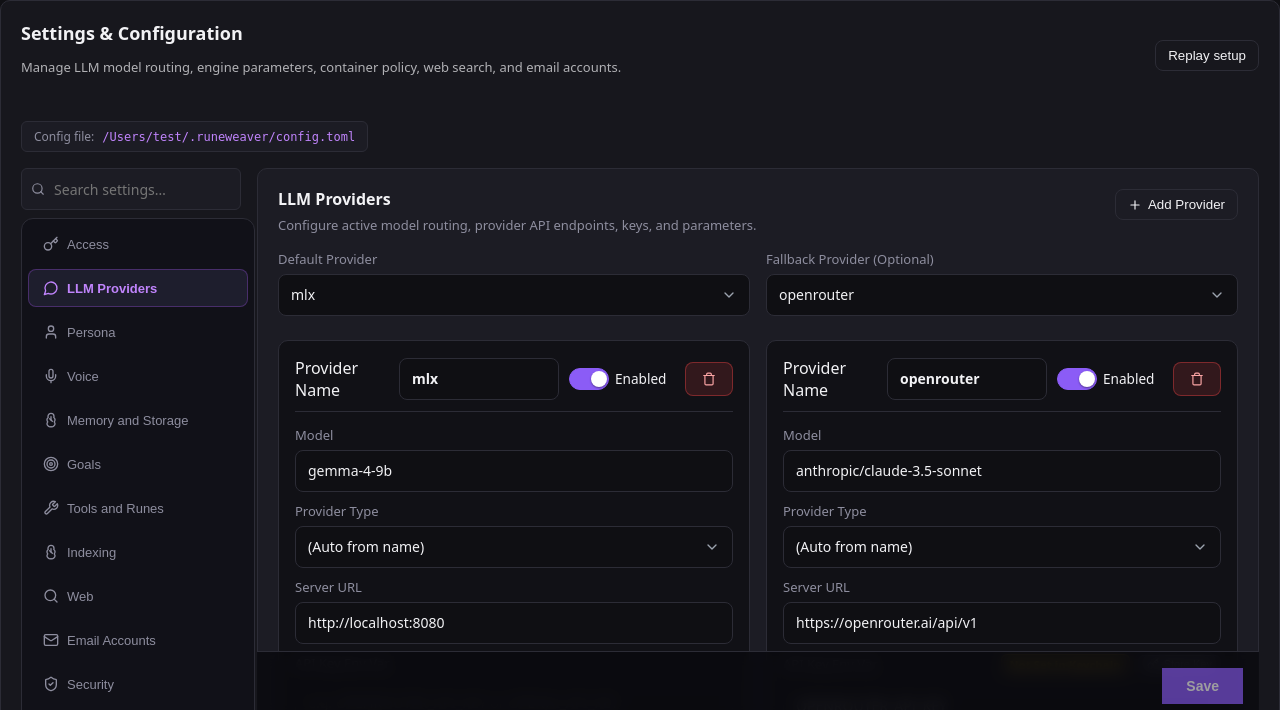
Test: SettingsManager › exposes the embedding backend select and saves it
Expected: the 1st field showing "gemma-4-9b" is shown, [295,450,733,492]
Click the tab "Memory and Storage" at (138, 420), box [28,401,248,439]
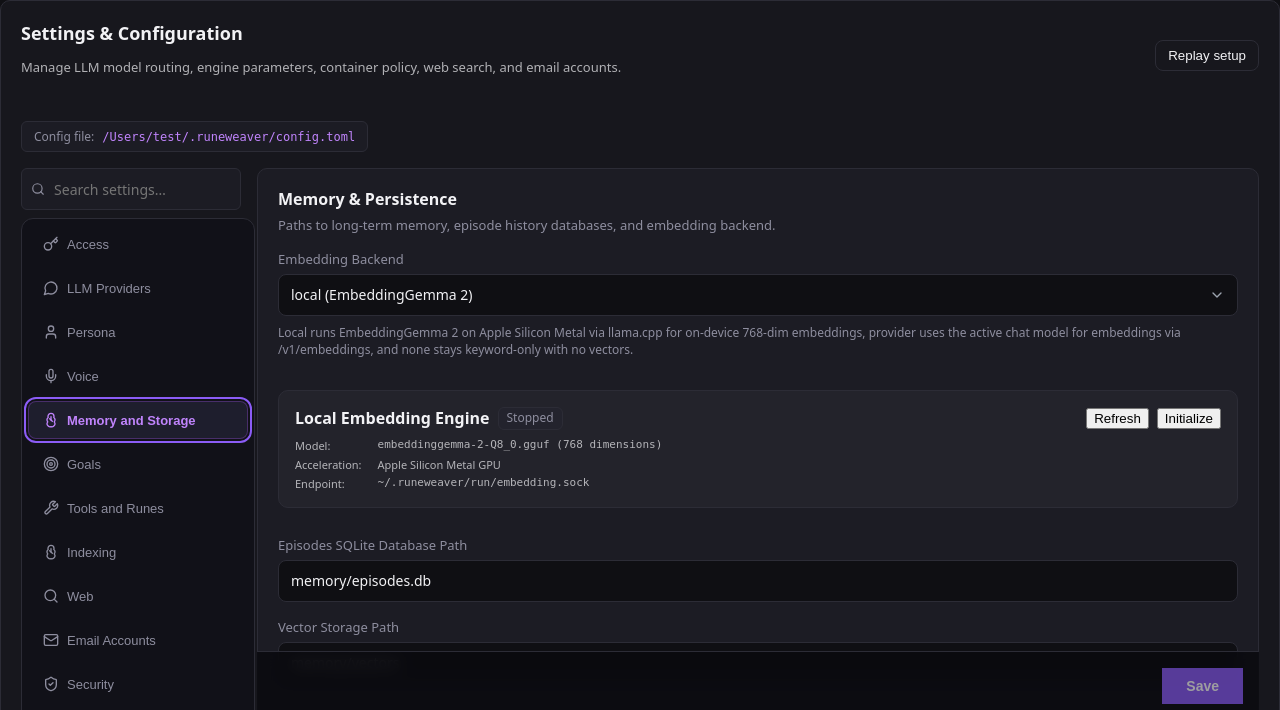
Expected: the dropdown labelled "Embedding Backend" shows "local (EmbeddingGemma 2)"
Expected: the text "keyword-only" is shown, [278,324,1181,358]
Select "provider" in the dropdown labelled "Embedding Backend" at (758, 295), box [278,274,1238,316]
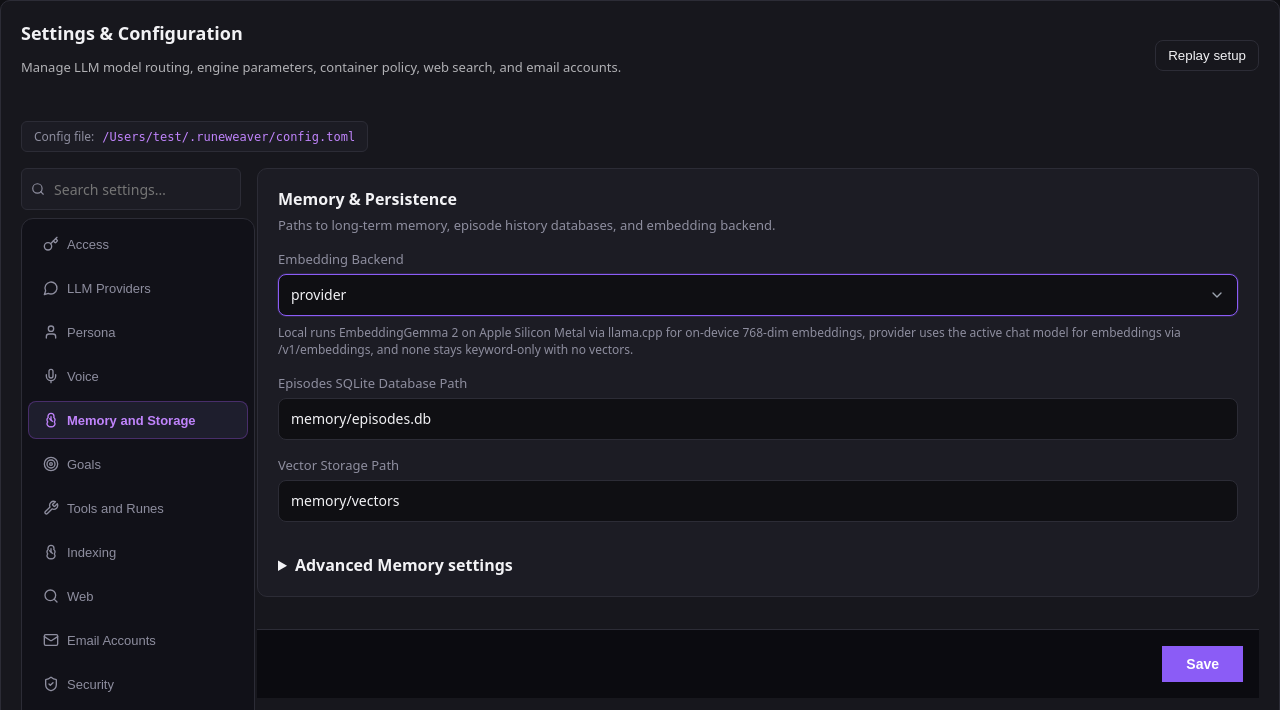
Click the button "Save" at (1203, 664), box [1162,646,1243,682]
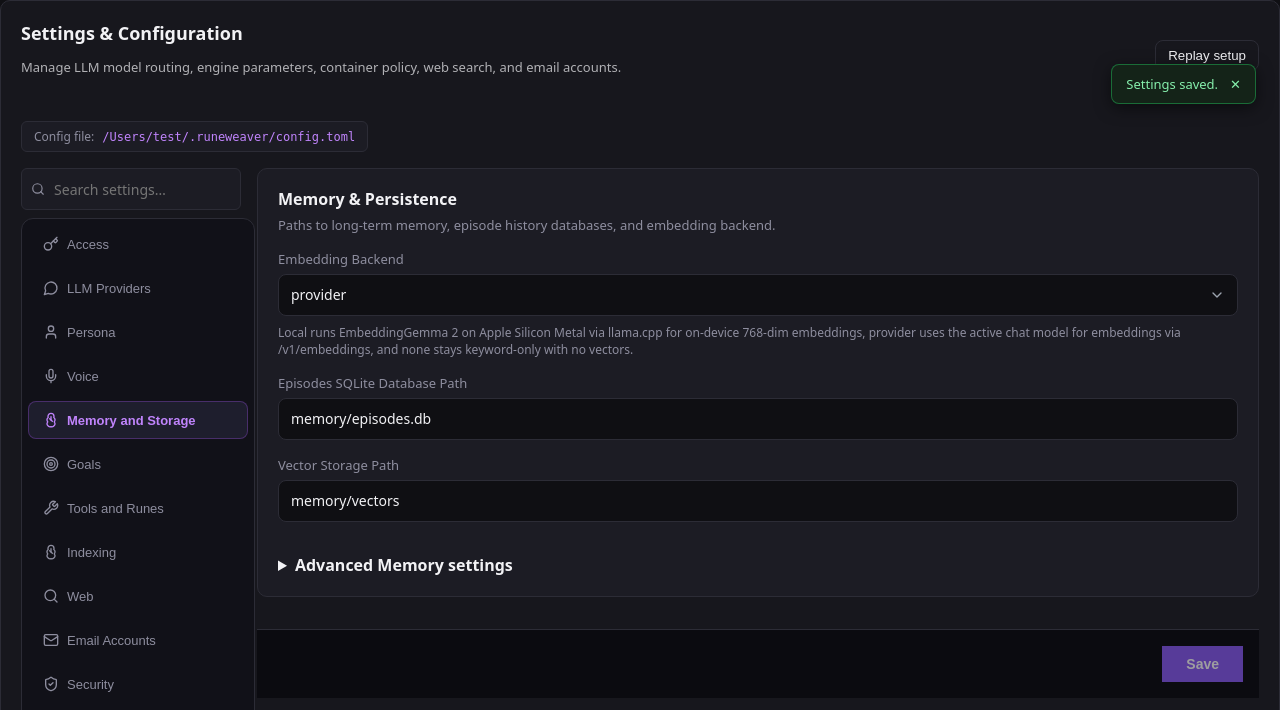
Expected: the text "Settings saved." is shown, [1126,75,1218,93]
